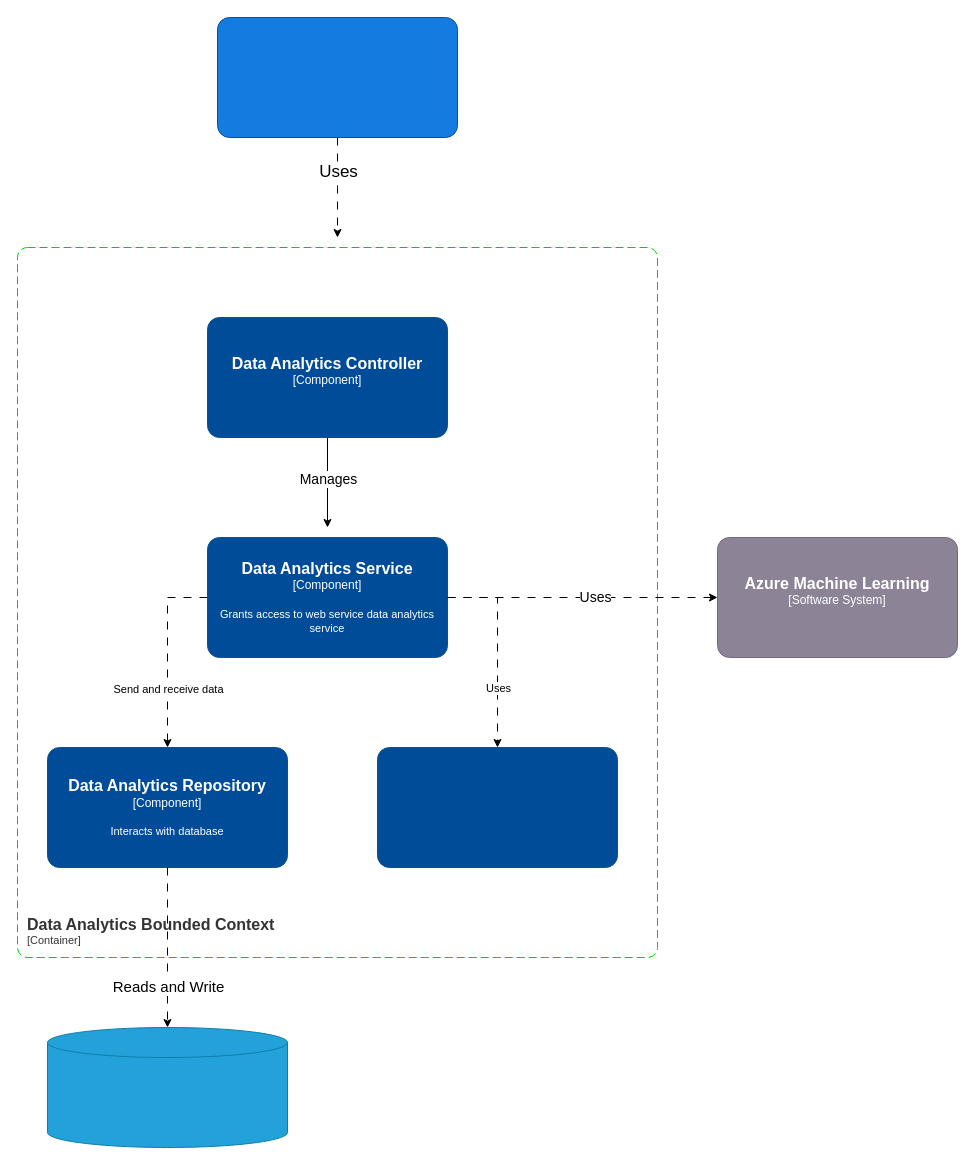
The diagram is 975 pixels wide and 1165 high, and some of its shapes have lost their labels. Each missing label, with the centre of its shape:
"API REST [Container] RESTFul API of solution" belongs at (x=337, y=77).
"Database [Container: RDS]" belongs at (x=167, y=1087).
"Domain Layer [Component]" belongs at (x=497, y=807).
